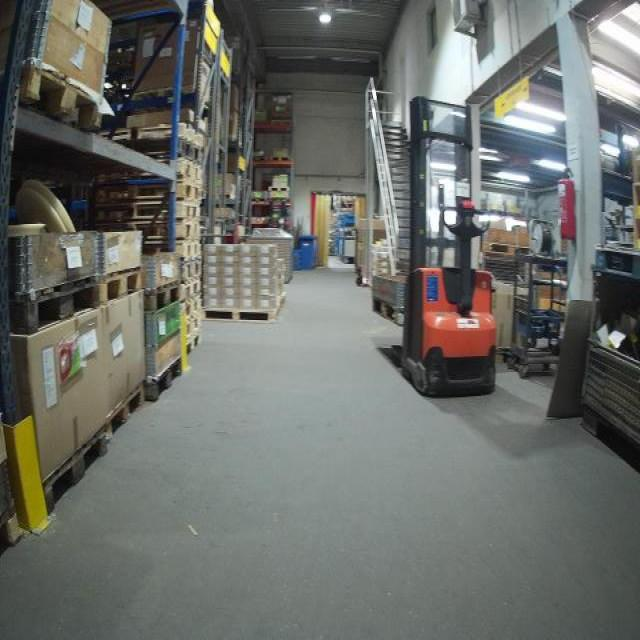pallet: (2, 64, 106, 136), (40, 422, 108, 516), (12, 271, 100, 343), (104, 378, 148, 449), (203, 298, 284, 324), (146, 355, 186, 404), (99, 269, 147, 307), (111, 203, 202, 221), (113, 186, 205, 203), (144, 280, 182, 316), (137, 220, 201, 240), (485, 243, 536, 260), (178, 160, 203, 184), (183, 294, 200, 321), (181, 279, 202, 300), (185, 330, 200, 359), (184, 315, 202, 339), (177, 244, 201, 262), (181, 262, 201, 279), (268, 186, 290, 192), (271, 157, 289, 160)
pallet_truck: (370, 97, 504, 407), (351, 223, 368, 288)
stillage: (572, 260, 640, 470), (480, 248, 537, 293)
